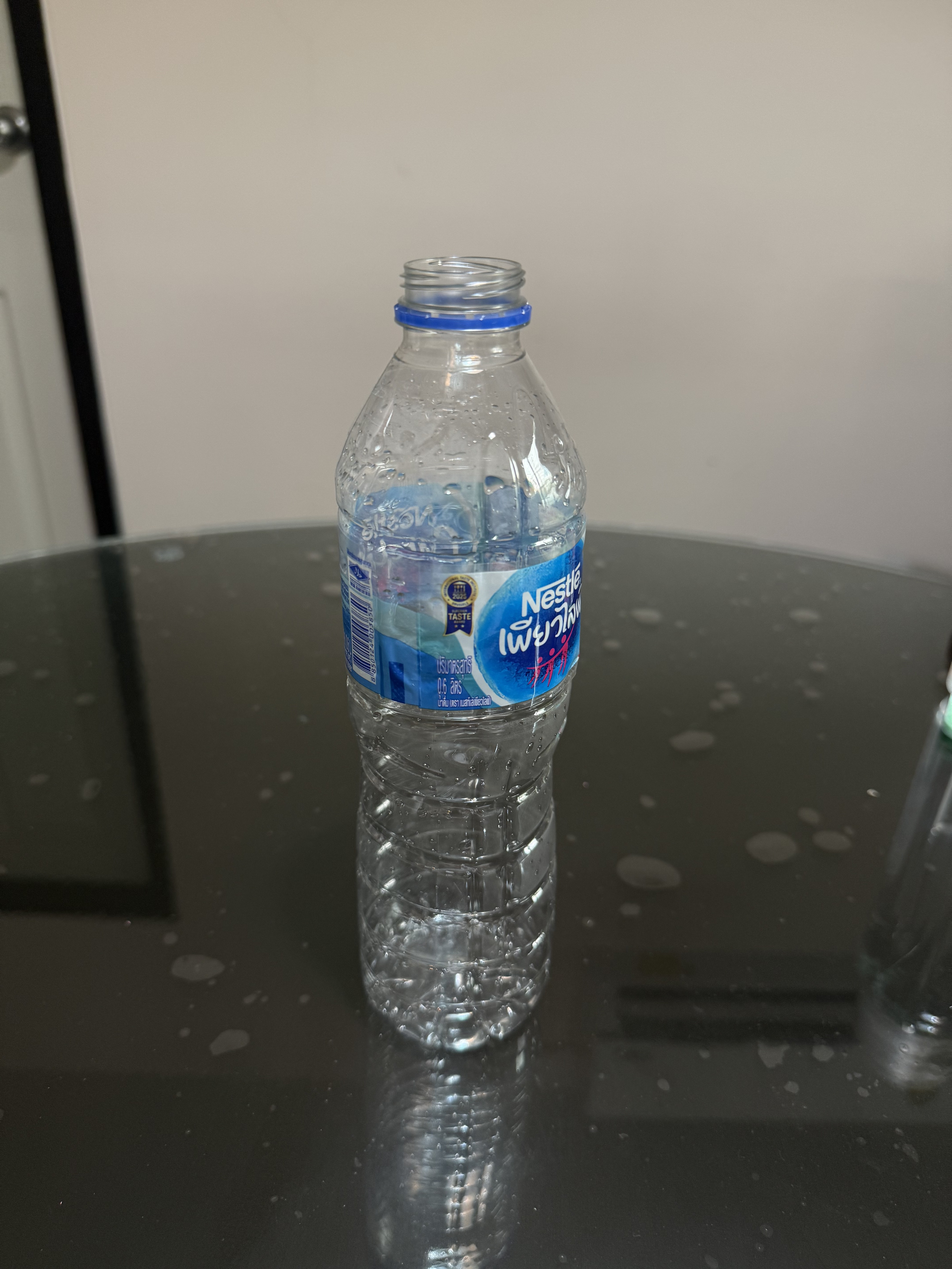no_cap: (394, 251, 534, 332)
